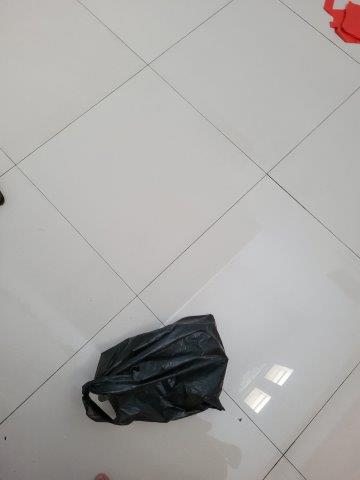plastik: (81, 313, 226, 428)
